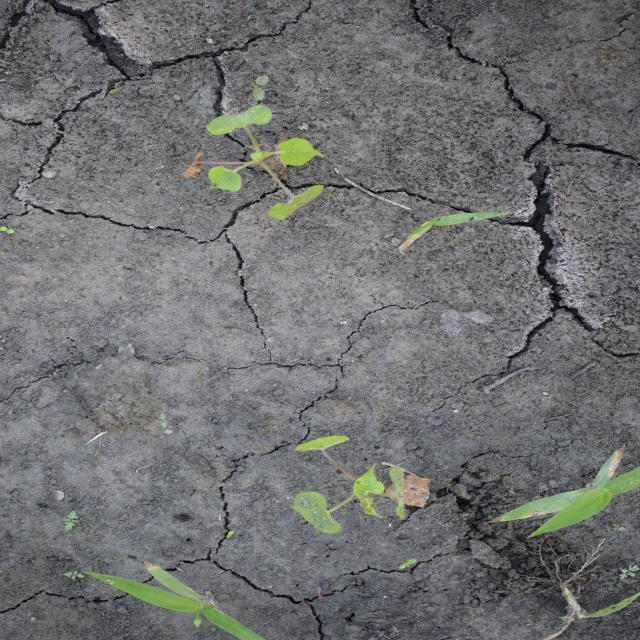MorningGlory: (177, 104, 327, 223), (286, 433, 409, 536)
